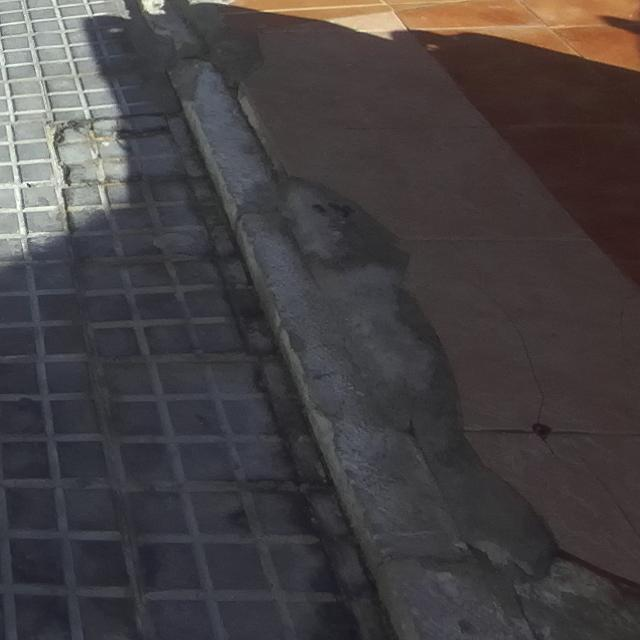calcada_quebrada: (50, 108, 175, 142)
